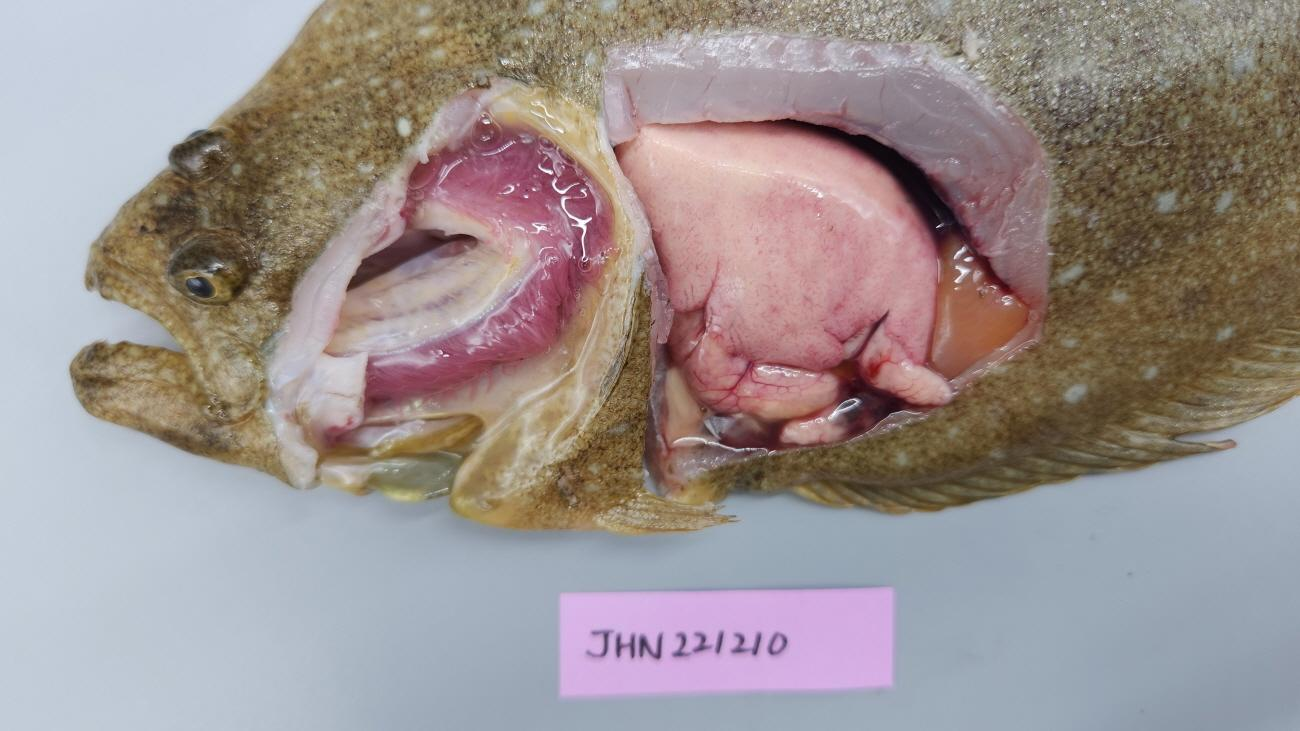POLIN: (616, 120, 939, 371)
